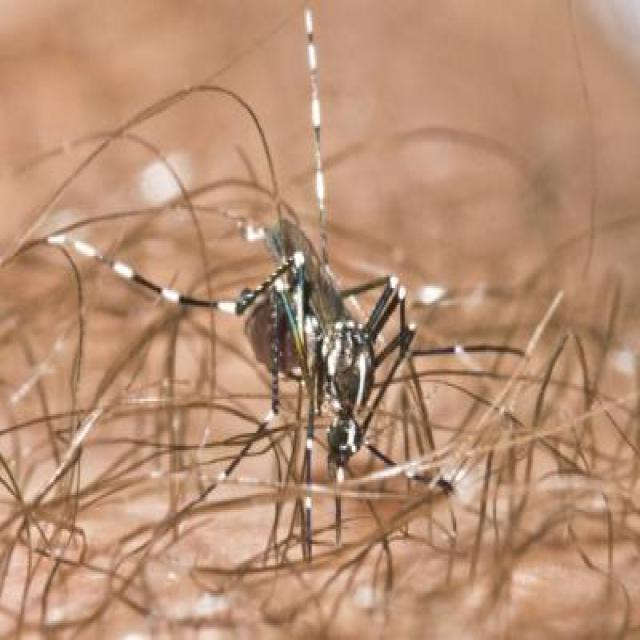body: (243, 221, 377, 464)
insect: (40, 9, 528, 556)
legs: (46, 218, 263, 552), (362, 269, 524, 497), (300, 13, 358, 261)
wings: (277, 221, 347, 336)
